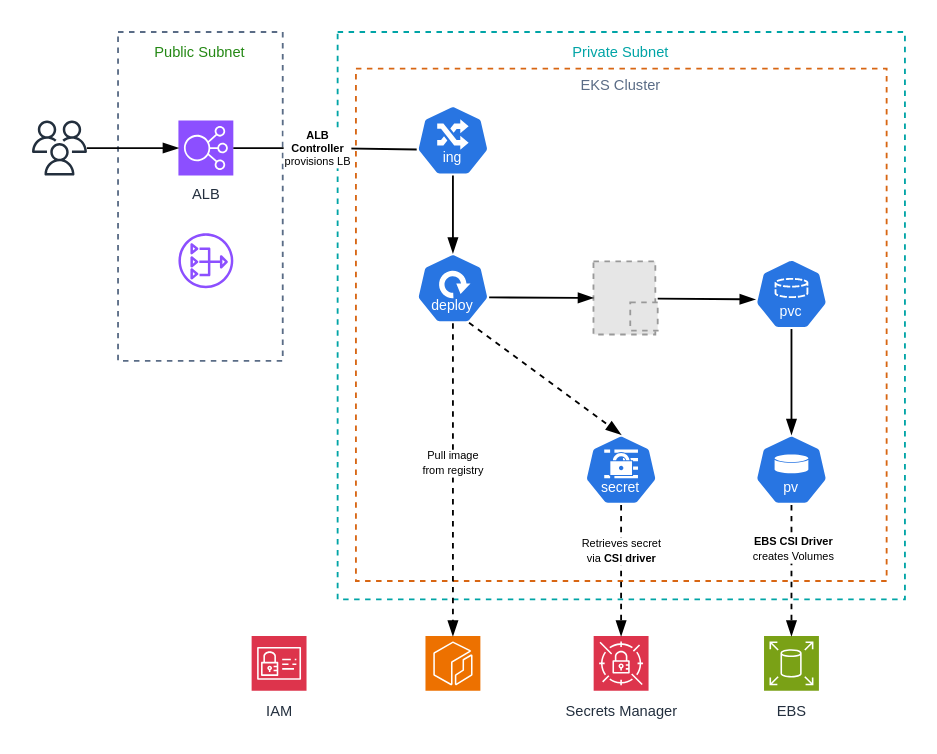
Image size: 937x754. Some labels were removed from this diagram. Grey dashed boxes stand in for pictures. The shapes that lost their labels are listed below. From the top down, each one's centre as x and y in pixels, then its label:
At [58,147]: "Users".
At [205,259]: "NAT".
At [452,662]: "ECR".
